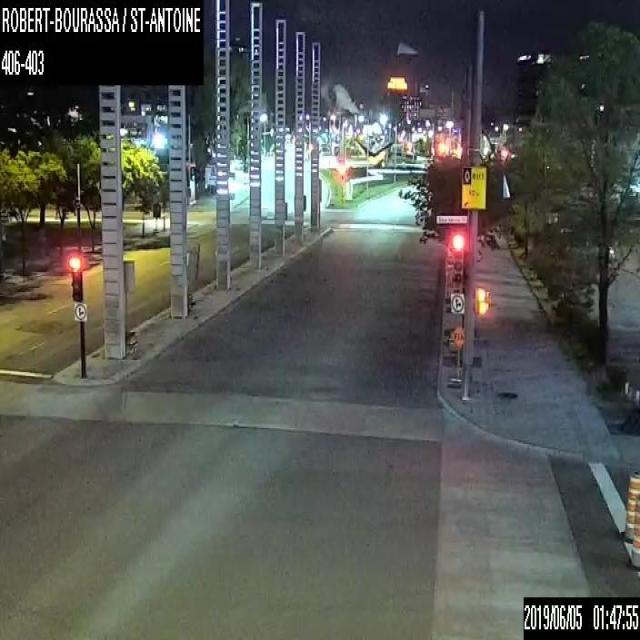construction: (620, 467, 639, 542), (449, 324, 464, 388), (628, 494, 639, 570)
